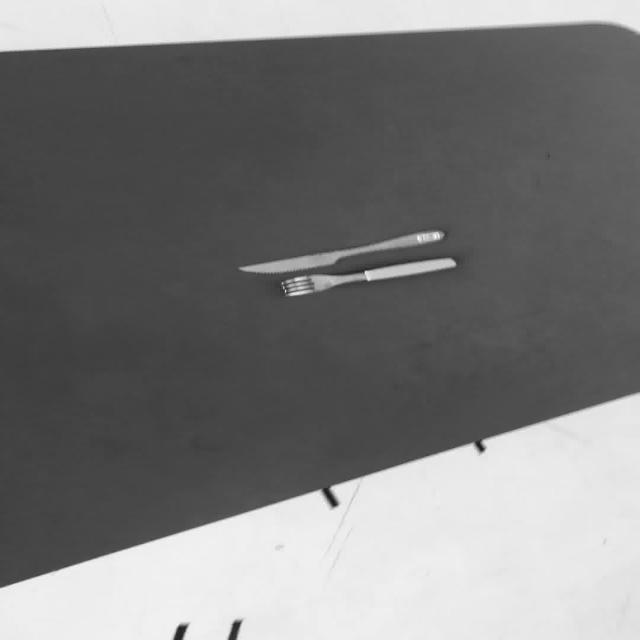fork: (278, 256, 457, 297)
knife fork: (235, 228, 445, 274)
